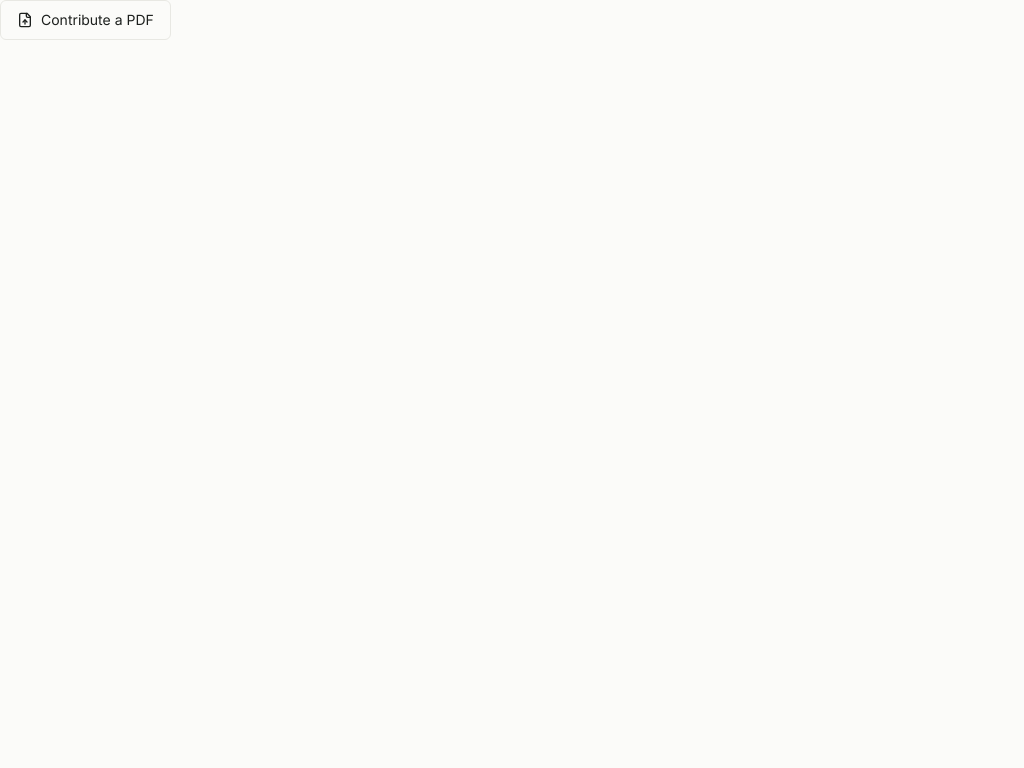
it: ContributeBookPdfDialog › requires rights confirmation and submits existing-book contributions with the selected target ID
Later steps or results of the test are not shown.
Click the button "Contribute a PDF". click: (85, 20)
box: [0, 0, 171, 40]
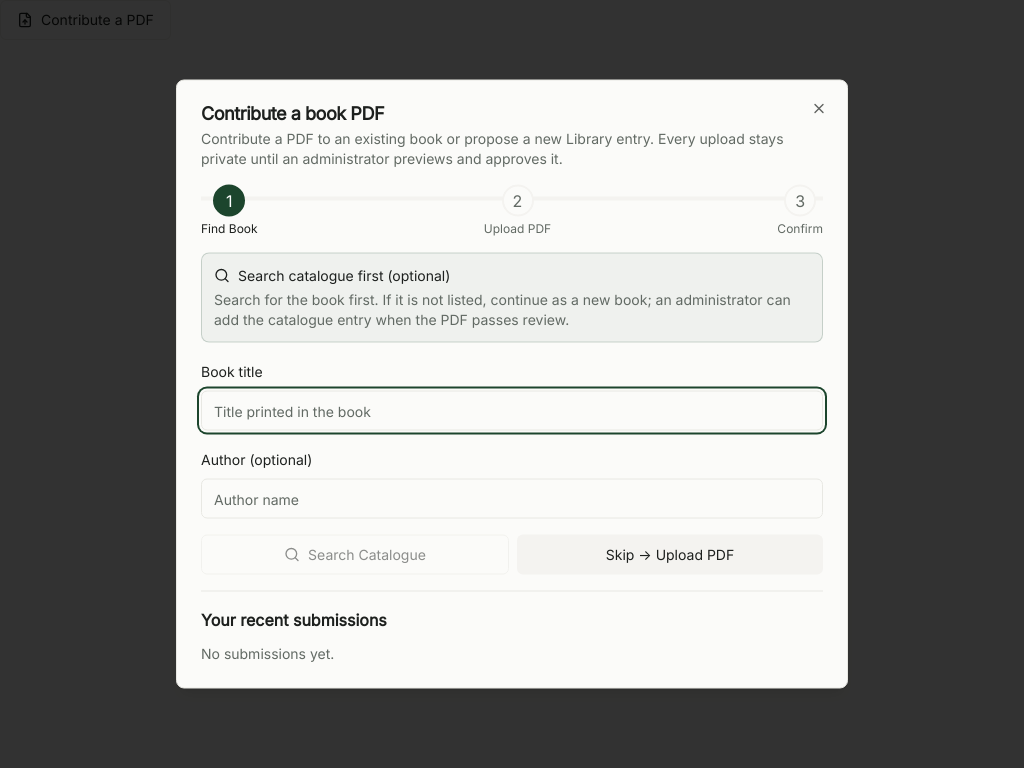
Type "Existing Catalogue Book" into the field labelled "Book title". click: (512, 410)
box: [201, 390, 823, 430]
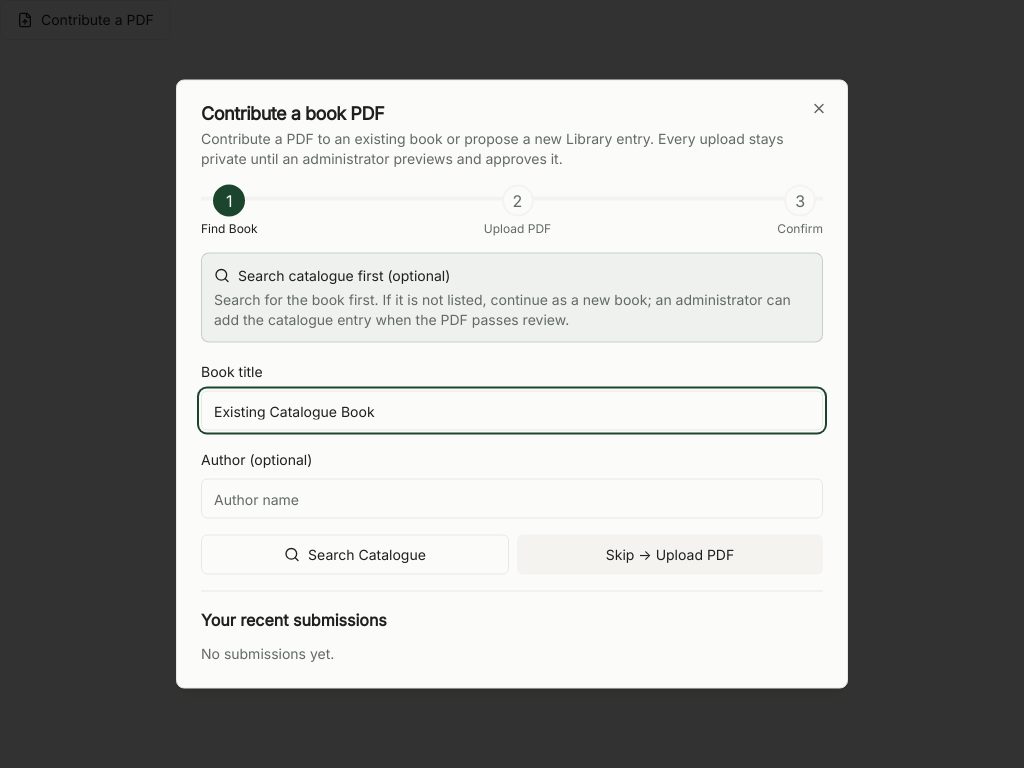
Click the button "Search Catalogue". click: (355, 554)
box: [201, 534, 509, 574]
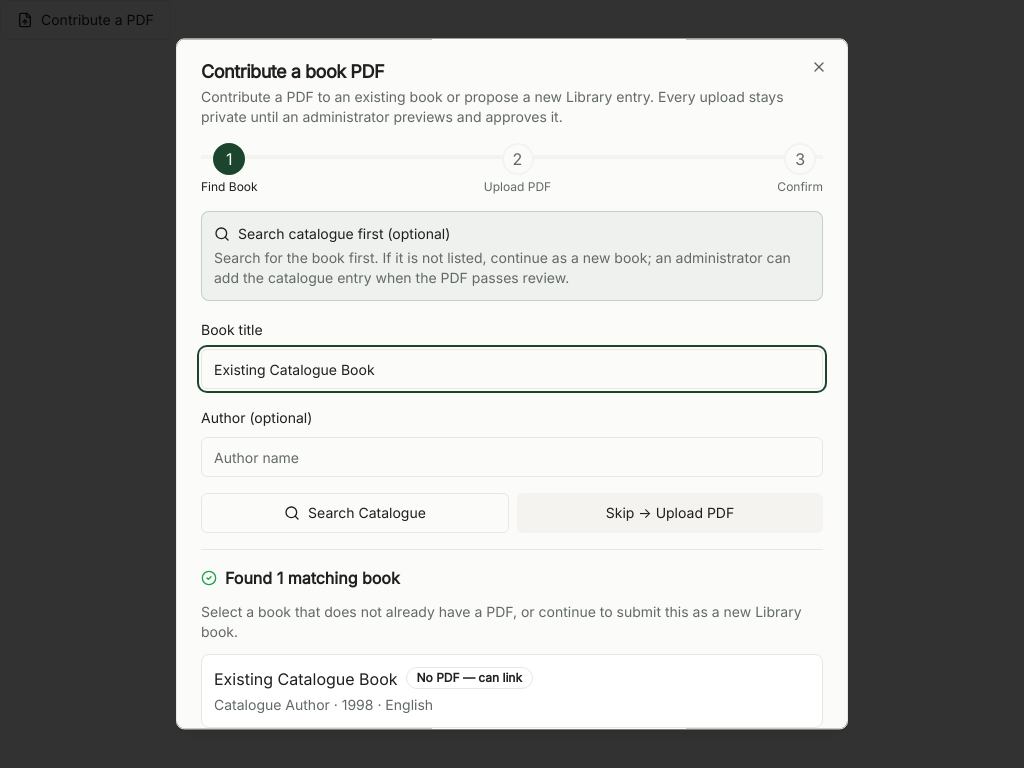
Result: the text "Existing Catalogue Book" is shown at [214, 667, 398, 691]
Click the button "Existing Catalogue Book". click: (512, 691)
box: [201, 654, 823, 728]
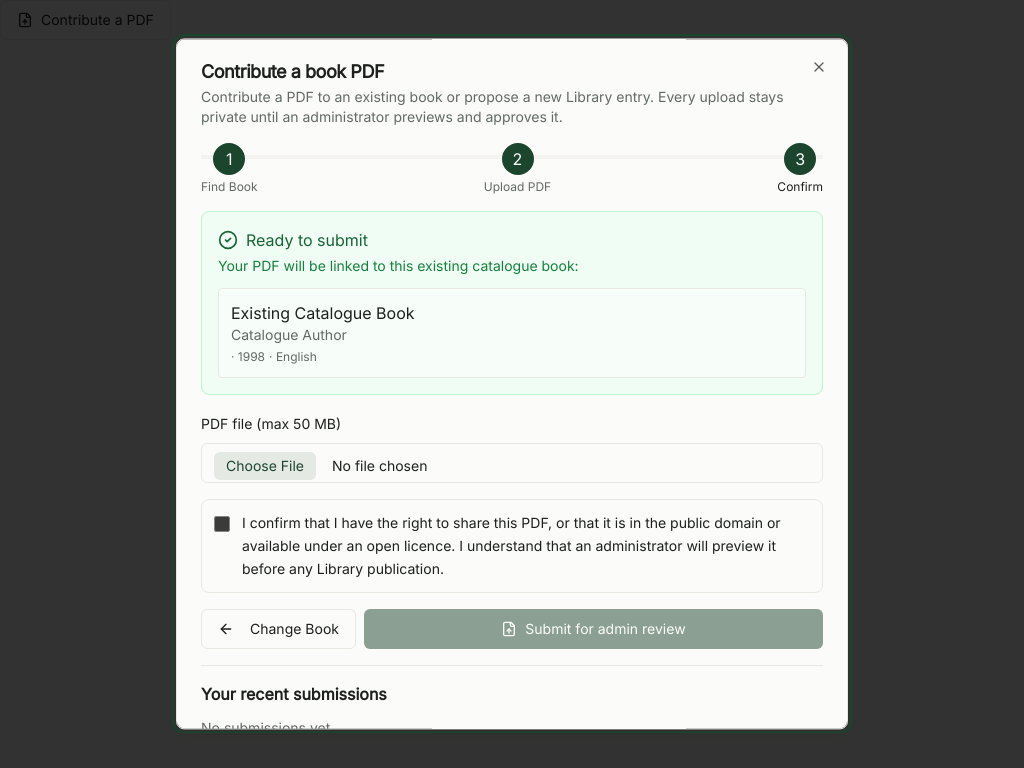
Result: the text "Ready to submit" is shown at [246, 228, 368, 252]
Result: the button "Submit for admin review" is disabled at [364, 610, 823, 650]
